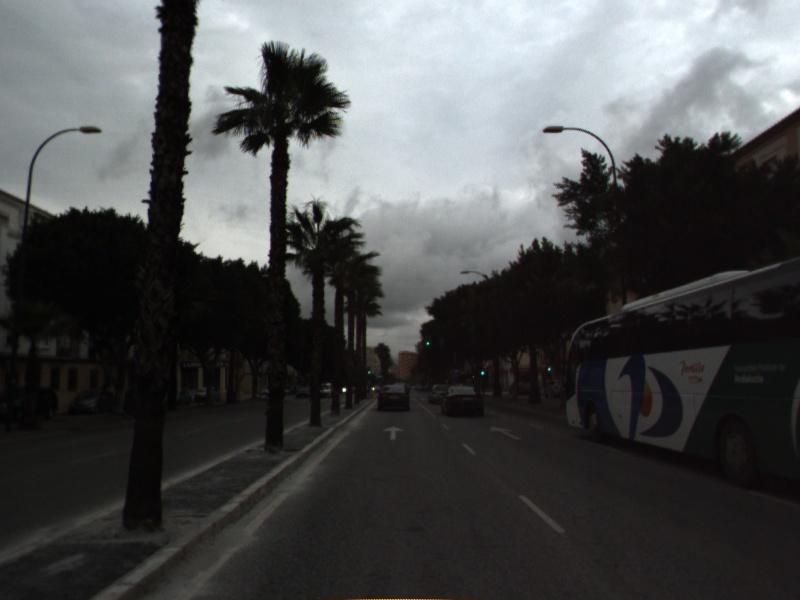STRAIGHT: (487, 424, 522, 442), (381, 424, 407, 442)
